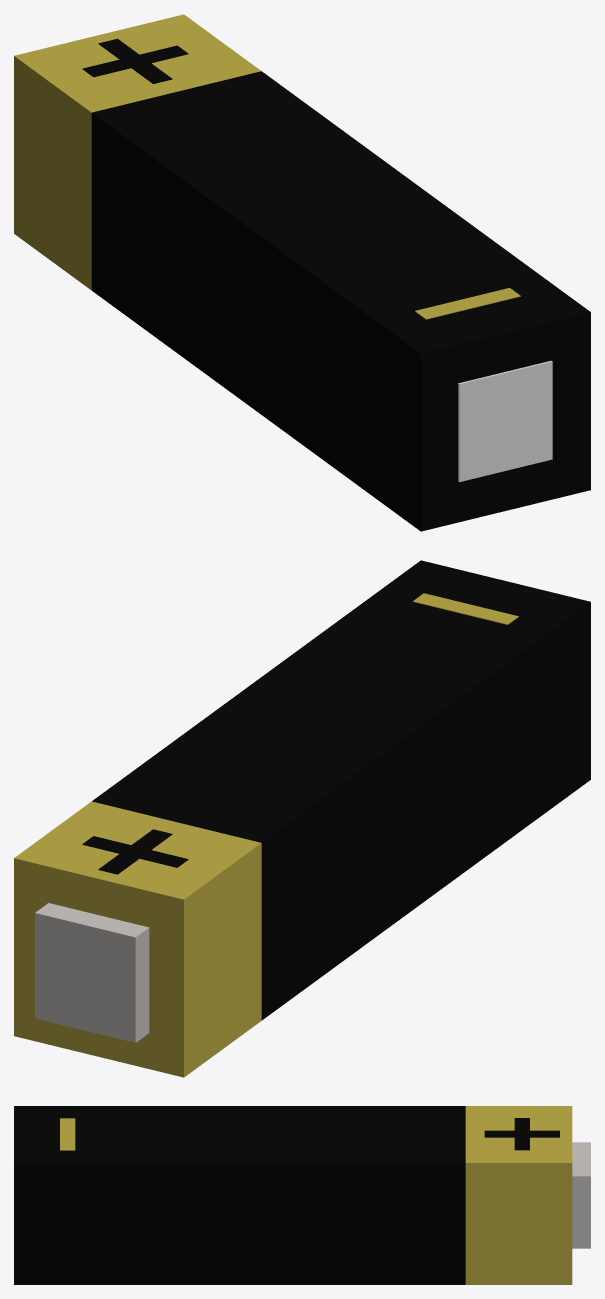
File: Battery.fbx
The picture shows the model from 3 angles, top to bottom: view 1: azimuth 30°, elevation 25°; view 2: azimuth 150°, elevation 25°; view 3: azimuth 270°, elevation 25°; orthographic projection. The views are drawn at different scales.
Visible parts, largest first — view 1: Cube, Cube.002, Cube.001, Cube.004, Cube.003; view 2: Cube, Cube.002, Cube.001, Cube.004, Cube.003; view 3: Cube, Cube.002, Cube.001, Cube.004, Cube.003.
Part boxes in pixels (x1=…): Cube: x1=91, y1=71, x2=590, y2=531; Cube.002: x1=14, y1=14, x2=261, y2=290; Cube.001: x1=458, y1=360, x2=552, y2=482; Cube.004: x1=82, y1=38, x2=188, y2=83; Cube.003: x1=415, y1=288, x2=520, y2=319; Cube: x1=92, y1=560, x2=590, y2=1020; Cube.002: x1=14, y1=801, x2=261, y2=1077; Cube.001: x1=35, y1=903, x2=149, y2=1042; Cube.004: x1=82, y1=829, x2=188, y2=874; Cube.003: x1=412, y1=593, x2=518, y2=624; Cube: x1=14, y1=1106, x2=465, y2=1284; Cube.002: x1=465, y1=1106, x2=572, y2=1284; Cube.001: x1=572, y1=1142, x2=590, y2=1248; Cube.004: x1=484, y1=1118, x2=559, y2=1150; Cube.003: x1=60, y1=1118, x2=75, y2=1150.
Bounding box in the file's own units: 41.68 × 41.83 × 179.
